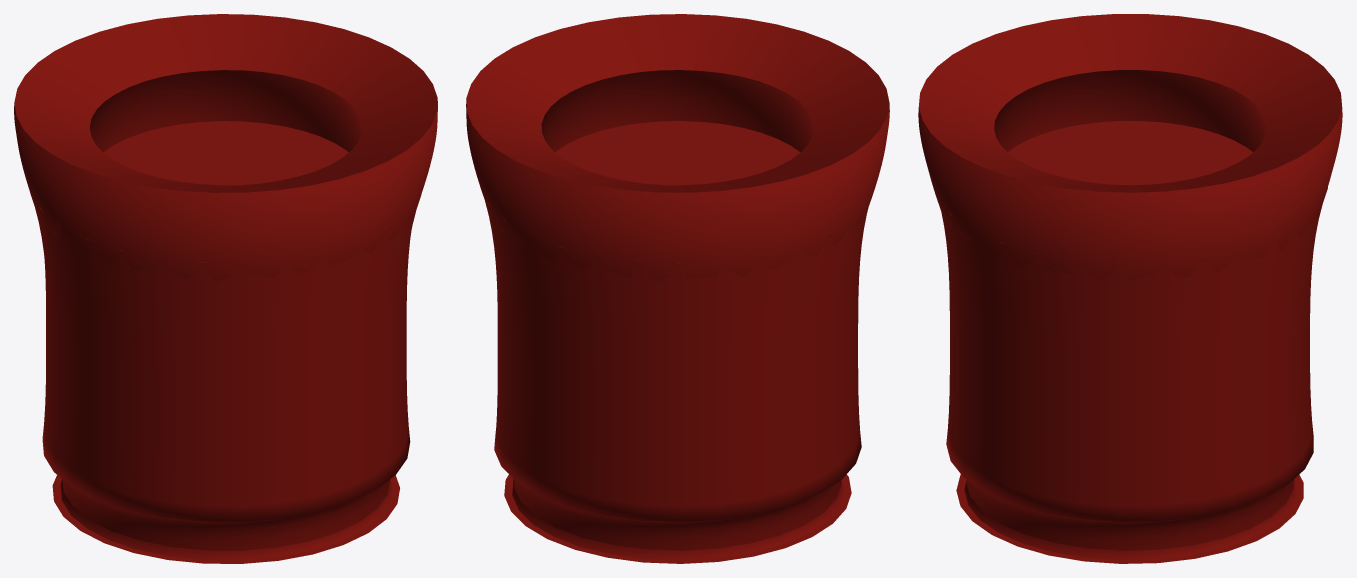
Rendered from trashcan.fbx.
3 views of the same model, side by side, from view 1: azimuth 30°, elevation 25°; view 2: azimuth 150°, elevation 25°; view 3: azimuth 270°, elevation 25° (orthographic).
Visible parts, largest first — view 1: Merged_Meshes; view 2: Merged_Meshes; view 3: Merged_Meshes.
Part boxes in pixels (x1,y1,x2,y2): Merged_Meshes: (14, 14, 437, 563); Merged_Meshes: (466, 14, 889, 563); Merged_Meshes: (918, 14, 1342, 563).
Bounding box in the file's own units: 117 × 119 × 117.
